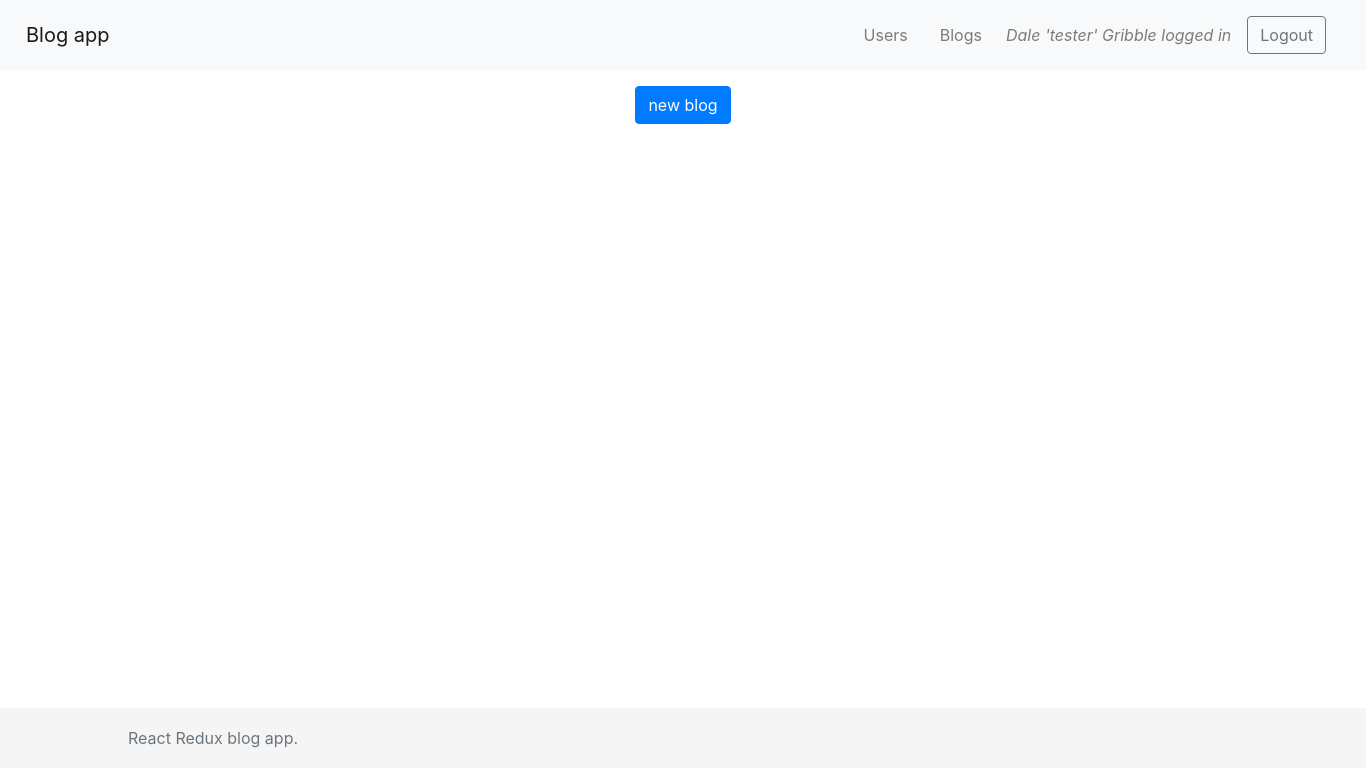
Test: <App /> › when user is logged in › 'new blog' button is visible and is clickable
The image size is (1366, 768).
What coordinates should you click on to do the following:
click the button "new blog"
I would click on:
 (683, 105)
Its box is [635,86,731,124].
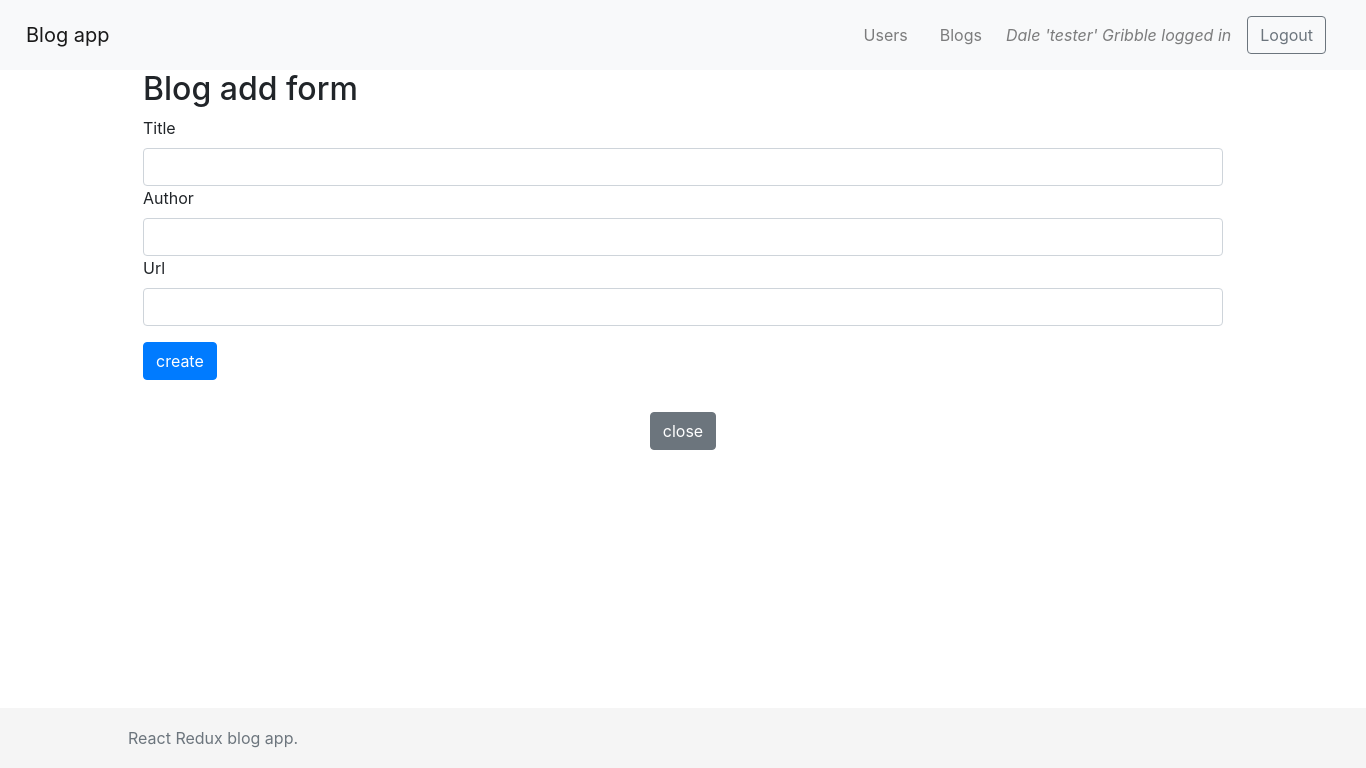
Now the text "Blog add form" is shown, box [143,69,358,108]
